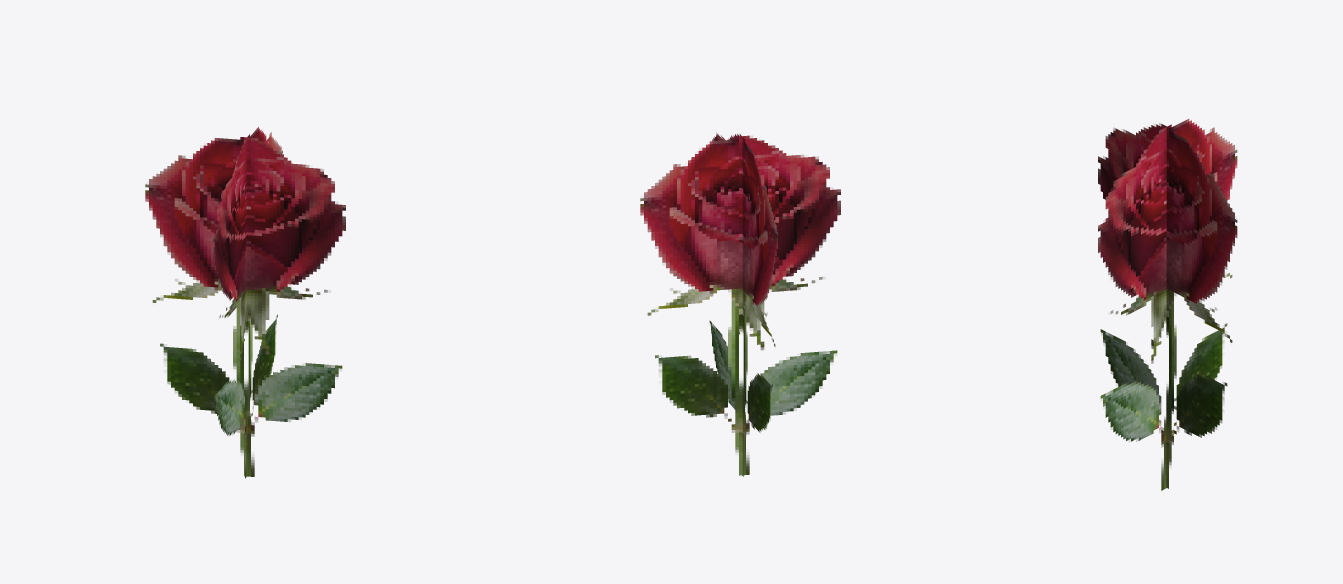
The model's file is rose.glb.
The picture shows the model from 3 angles, left to right: view 1: azimuth 30°, elevation 25°; view 2: azimuth 150°, elevation 25°; view 3: azimuth 270°, elevation 25°; orthographic projection. The views are drawn at different scales.
Parts seen in each view (by area): view 1: Plane.001; view 2: Plane.001; view 3: Plane.001.
Part boxes in pixels (x1=…): Plane.001: x1=145, y1=127, x2=345, y2=478; Plane.001: x1=640, y1=132, x2=840, y2=476; Plane.001: x1=1098, y1=119, x2=1237, y2=490.
Bounding box in the file's own units: 0.5362 × 0.601 × 0.45.
Materials: 1 (1 with a texture image).
